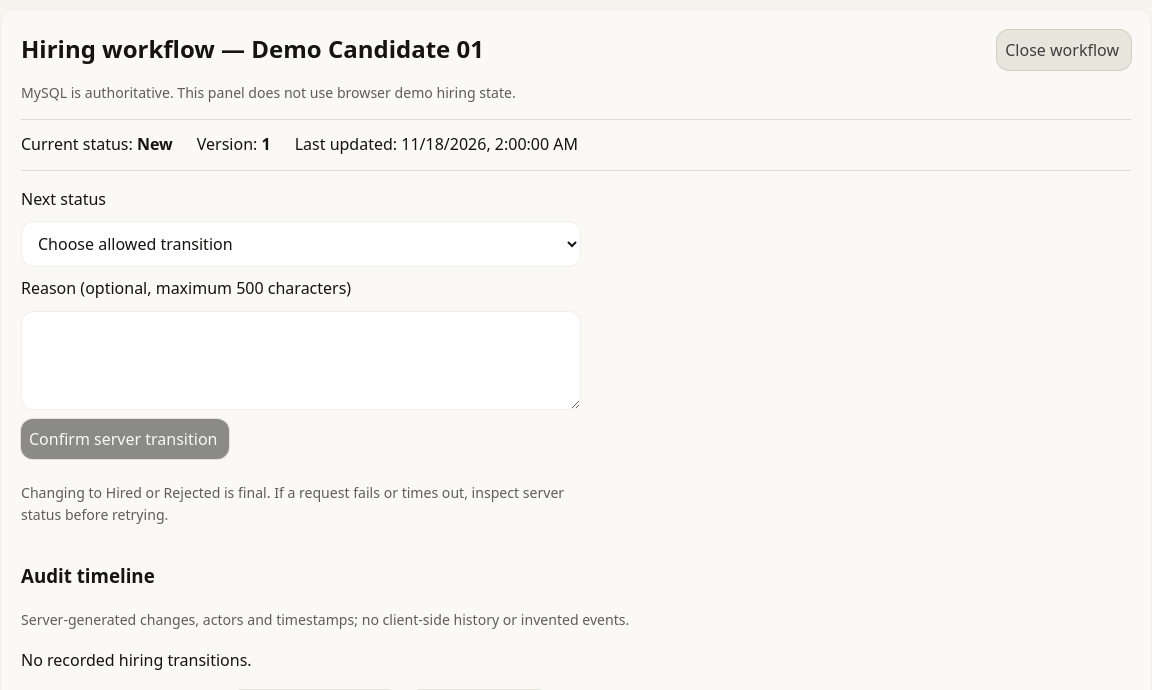
Test: authenticated MySQL hiring workflow panel › Recruiter can submit version-checked transition; UI reloads server state and audit
The image size is (1152, 690).
Check: the text "New" is shown, box [137,133,173,155]
Select "Contacted" in the dropdown labelled "Next status": x=301, y=244 [21,221,581,267]
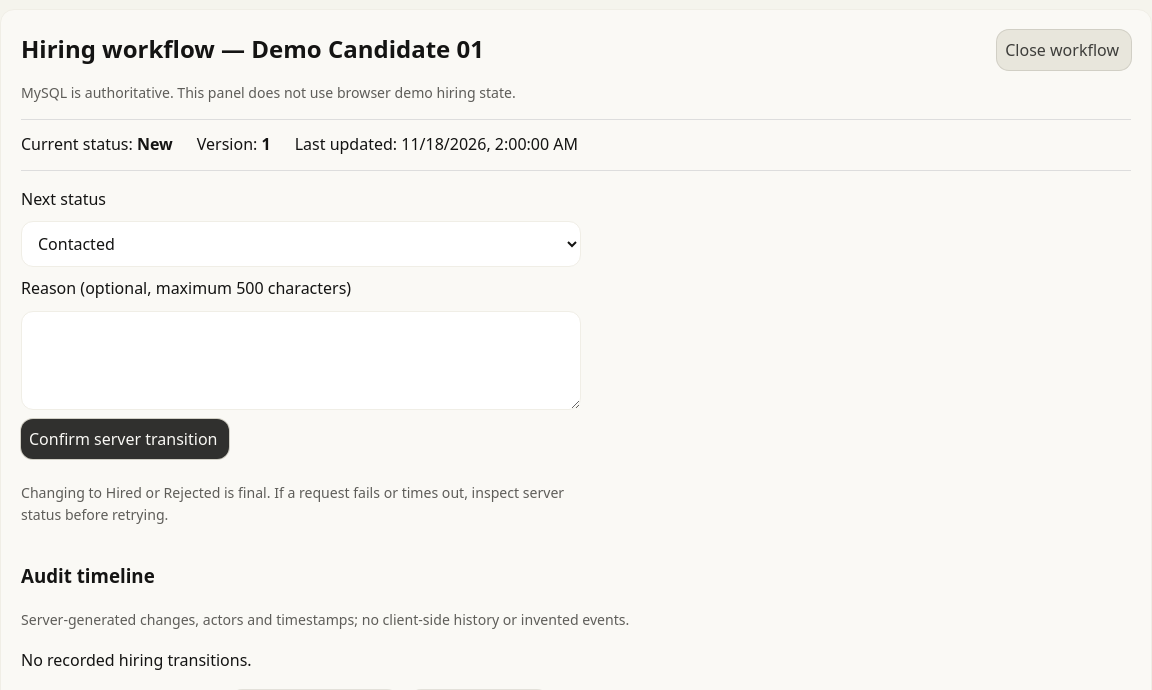
In the text box labelled "Reason (optional, maximum 500 characters)": x=301, y=360 [21,311,581,410], type "Reviewed"
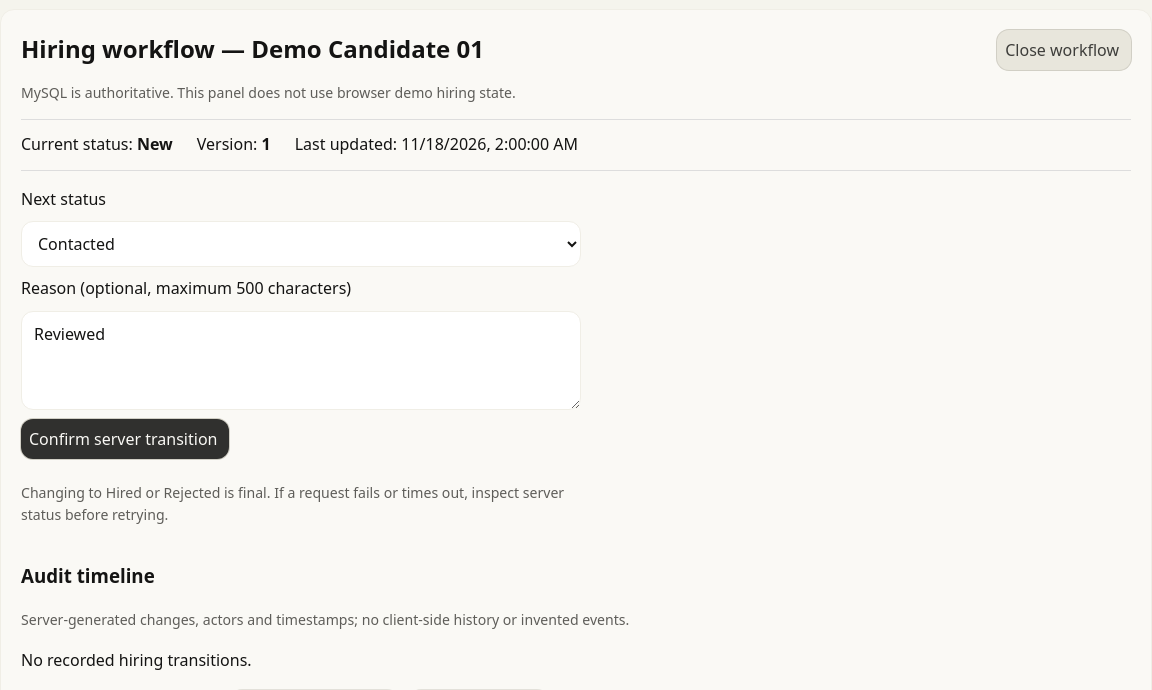
Click the button "Confirm server transition": x=125, y=439 [21,419,230,459]
(page scrolled)
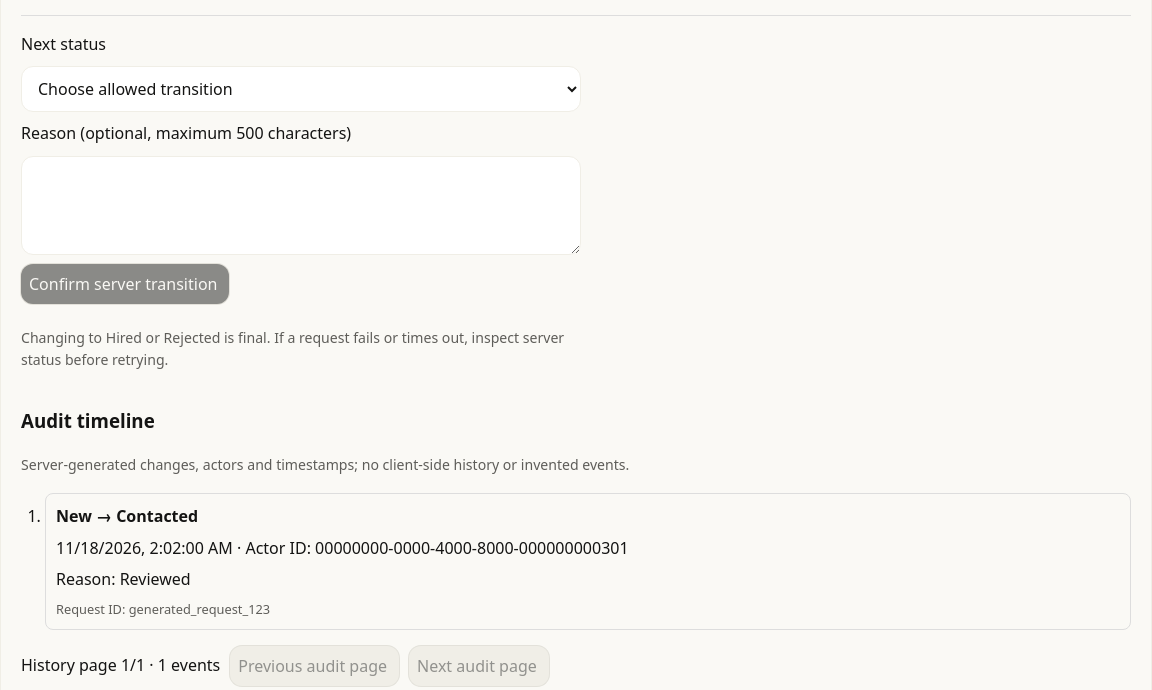
Check: the text "New → Contacted" is shown, box [56,505,198,527]
Check: the text "Actor ID:" shows "00000000-0000-4000-8000-000000000301", box [315,537,629,559]
Check: the text "Request ID: generated_request_123" is shown, box [56,600,270,618]
